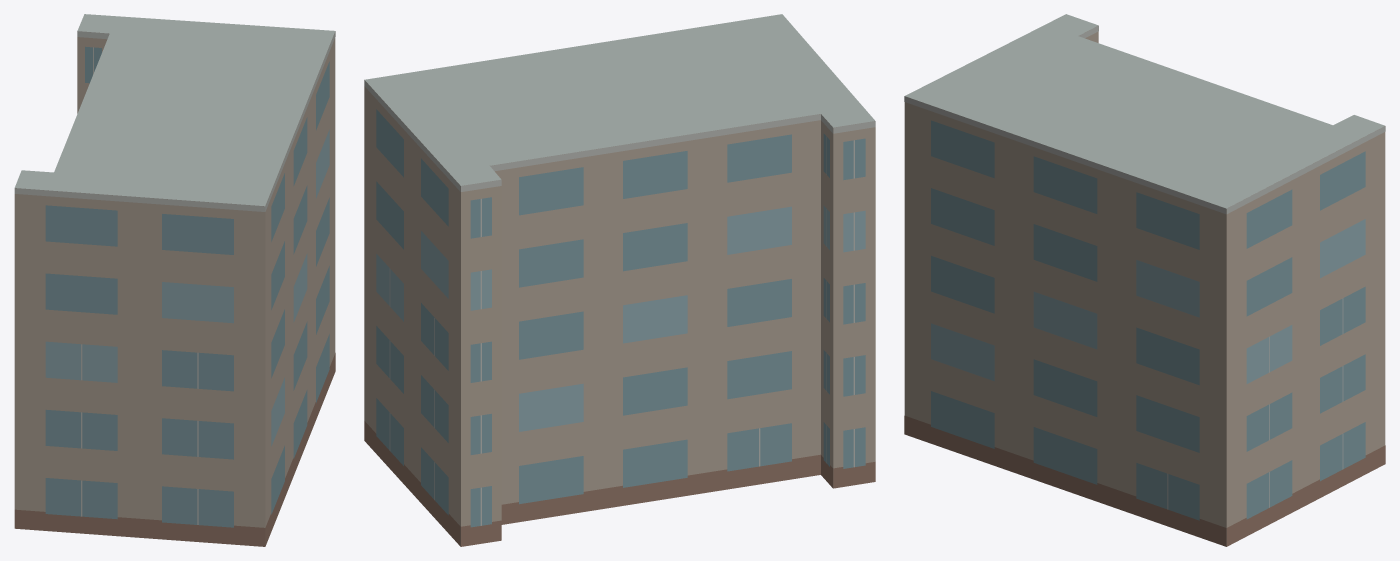
Rendered from survey-upis-32677856.glb.
3 views of the same model, side by side, from view 1: azimuth 30°, elevation 25°; view 2: azimuth 150°, elevation 25°; view 3: azimuth 270°, elevation 25° (orthographic). The views are drawn at different scales.
Parts seen in each view (by area): view 1: survey-upis-32677856.tmp; view 2: survey-upis-32677856.tmp; view 3: survey-upis-32677856.tmp.
Part boxes in pixels (left/top/right/bottom): survey-upis-32677856.tmp: left=14, top=14, right=335, bottom=546; survey-upis-32677856.tmp: left=364, top=14, right=875, bottom=546; survey-upis-32677856.tmp: left=904, top=14, right=1385, bottom=546.
Bounding box in the file's own units: 17.4 × 14.1 × 18.17.
